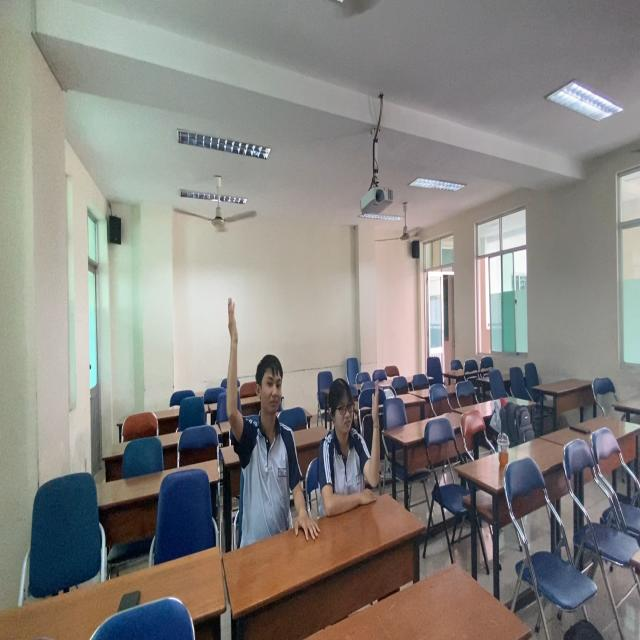raise_hand: (225, 292, 306, 538), (323, 376, 385, 520)
